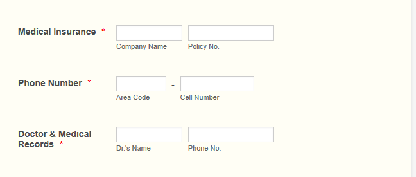textbox: (186, 124, 277, 144), (187, 24, 276, 42), (179, 74, 256, 93), (114, 124, 184, 143), (115, 24, 184, 42), (114, 73, 168, 93)
